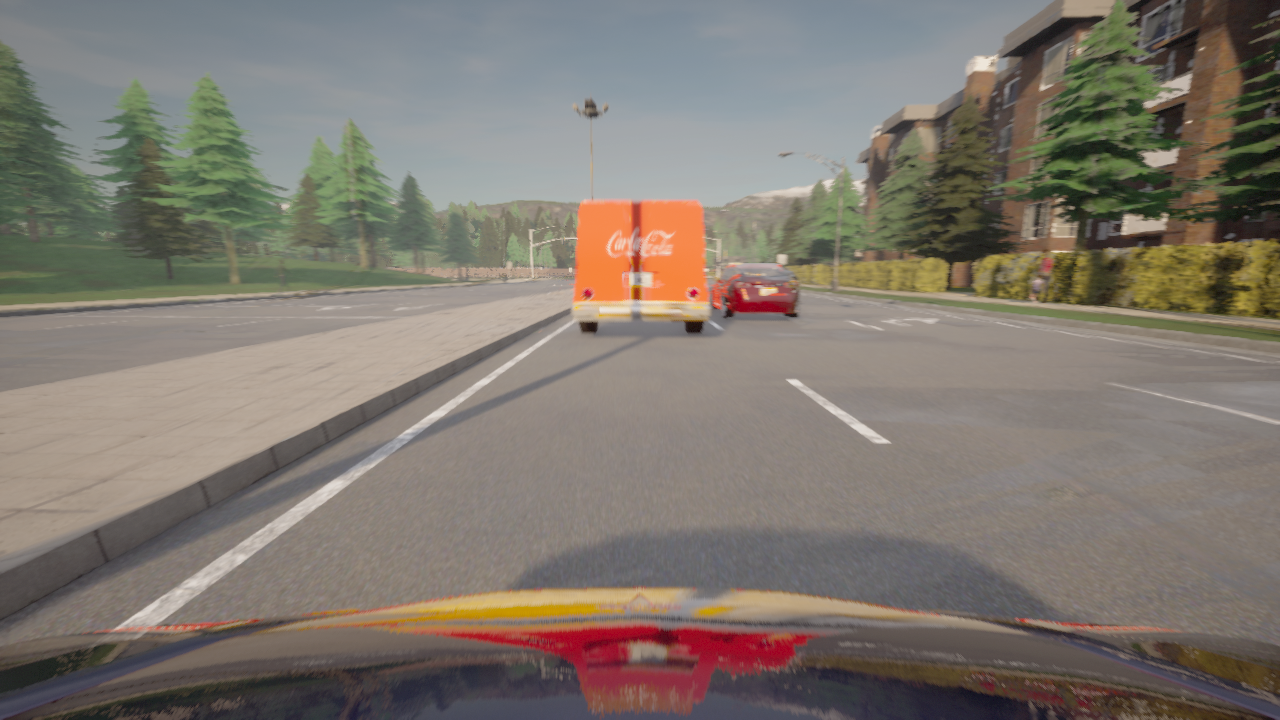cyclist: (0, 588, 1279, 719), (572, 201, 711, 333), (710, 263, 800, 318), (784, 268, 799, 282)
pedestrian: (1035, 250, 1053, 303), (275, 260, 291, 292), (1029, 274, 1043, 304)
